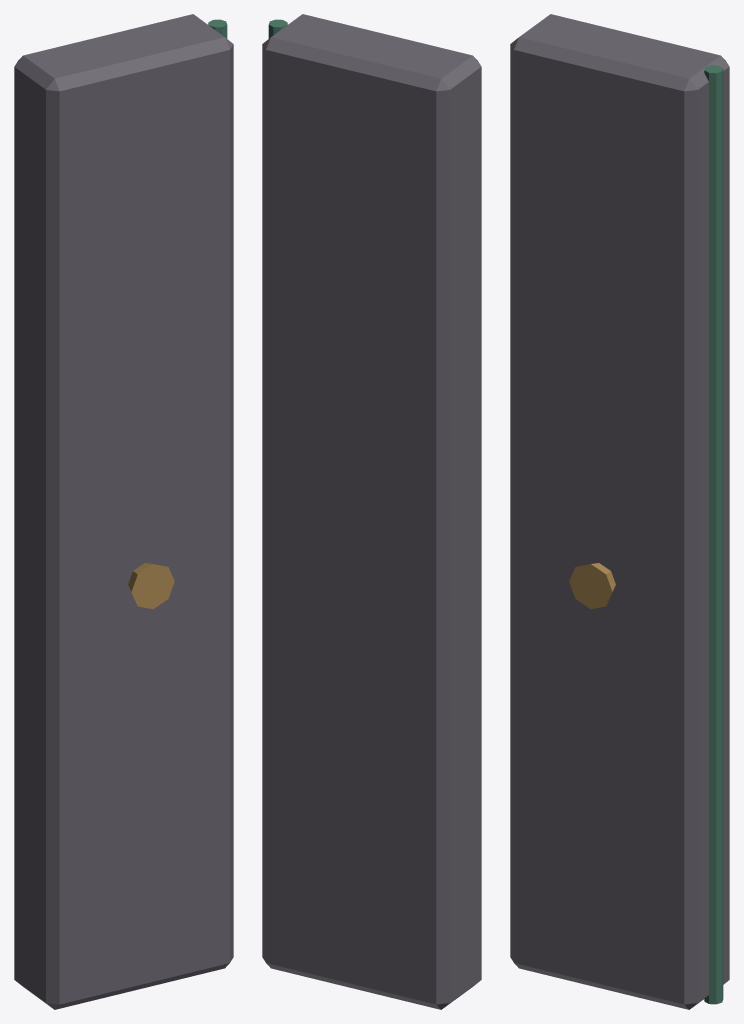
Rendered from Bld_Lab_FoldWall_4m_Panel0.glb.
3 views of the same model, side by side, from view 1: azimuth 30°, elevation 25°; view 2: azimuth 150°, elevation 25°; view 3: azimuth 330°, elevation 25° (orthographic).
Parts seen in each view (by area): view 1: Bld_Lab_FoldWall_4m_Panel0; view 2: Bld_Lab_FoldWall_4m_Panel0; view 3: Bld_Lab_FoldWall_4m_Panel0.
Boxes of the visible parts, x1,y1,x2,y2 form: Bld_Lab_FoldWall_4m_Panel0: (14,14,233,1009); Bld_Lab_FoldWall_4m_Panel0: (262,14,481,1009); Bld_Lab_FoldWall_4m_Panel0: (510,14,729,1009).
Size of what is drawn, in the model's own units: 0.815 by 3.7 by 0.36.
